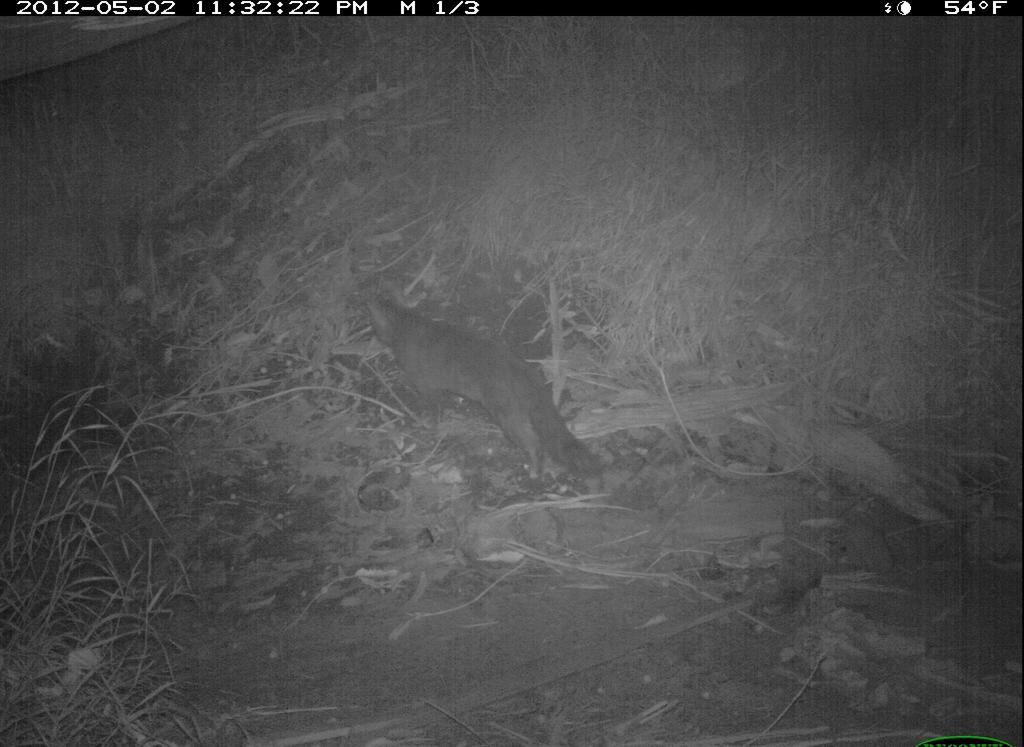cat: (359, 286, 612, 501)
